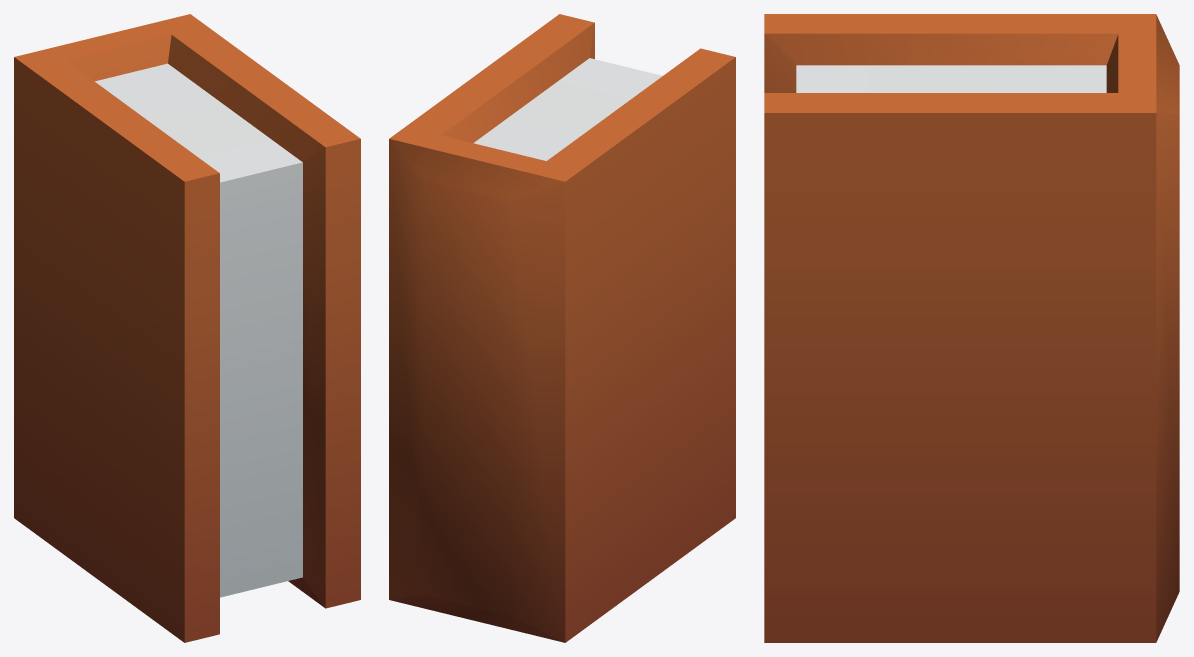
Rendered from book_brown.glb.
The picture shows the model from 3 angles, left to right: view 1: azimuth 30°, elevation 25°; view 2: azimuth 150°, elevation 25°; view 3: azimuth 270°, elevation 25°; orthographic projection. The views are drawn at different scales.
Parts seen in each view (by area): view 1: book_brown; view 2: book_brown; view 3: book_brown.
Boxes of the visible parts, x1=… form: book_brown: x1=14, y1=14, x2=360, y2=642; book_brown: x1=389, y1=14, x2=735, y2=642; book_brown: x1=764, y1=14, x2=1179, y2=642.
Bounding box in the file's own units: 0.2 × 0.5 × 0.355.
1 material, 1 textured.
